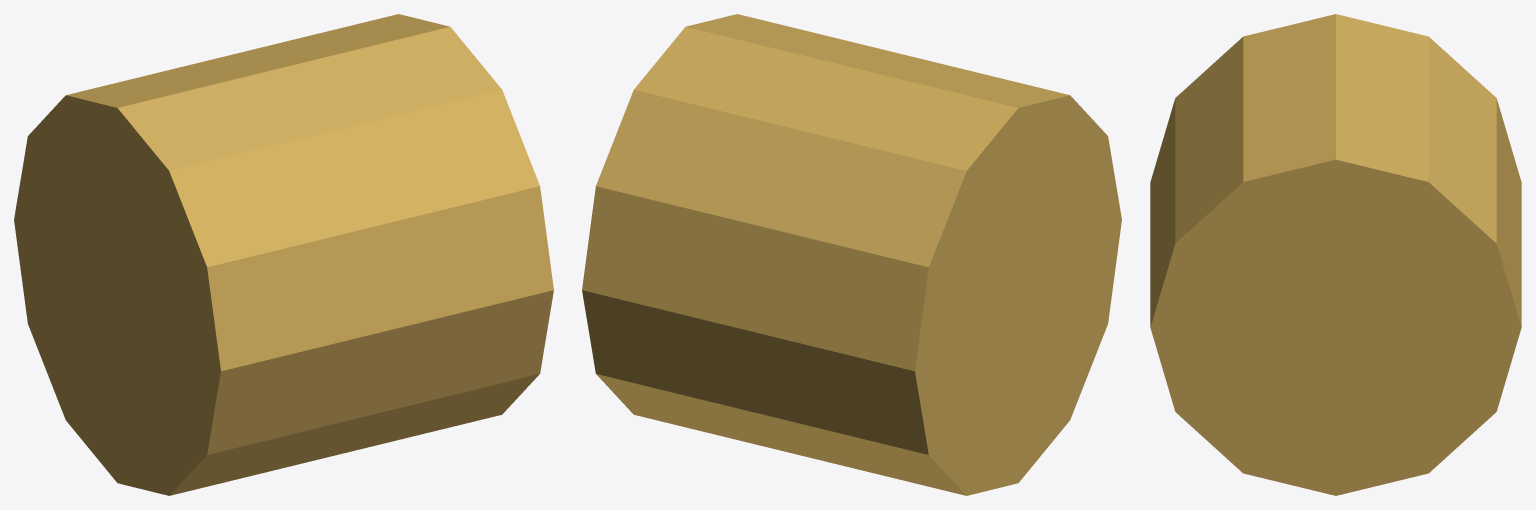
Rendered from haybale.glb.
The picture shows the model from 3 angles, left to right: view 1: azimuth 30°, elevation 25°; view 2: azimuth 150°, elevation 25°; view 3: azimuth 270°, elevation 25°; orthographic projection. The views are drawn at different scales.
Parts seen in each view (by area): view 1: haybale; view 2: haybale; view 3: haybale.
Part boxes in pixels (x1,y1,x2,y2): haybale: (14, 14, 553, 495); haybale: (582, 14, 1121, 495); haybale: (1150, 14, 1521, 495).
Size of the model in its own units: 1.3 by 1.4 by 1.4.
